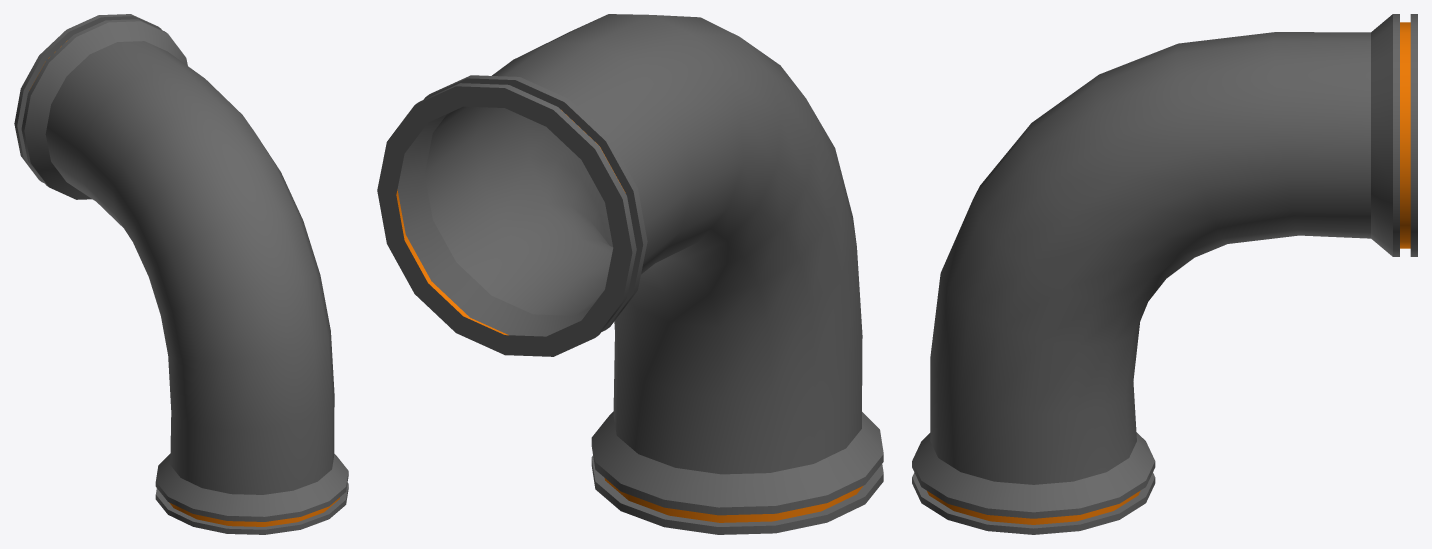
File: Pipe_45_1.fbx
3 views of the same model, side by side, from view 1: azimuth 30°, elevation 25°; view 2: azimuth 150°, elevation 25°; view 3: azimuth 270°, elevation 25° (orthographic). The views are drawn at different scales.
Visible parts, largest first — view 1: Pipe_LShape_1; view 2: Pipe_LShape_1; view 3: Pipe_LShape_1.
Boxes of the visible parts, x1,y1,x2,y2 form: Pipe_LShape_1: (14, 14, 348, 534); Pipe_LShape_1: (377, 14, 883, 534); Pipe_LShape_1: (912, 14, 1417, 534).
Bounding box in the file's own units: 63.29 × 132 × 132.
